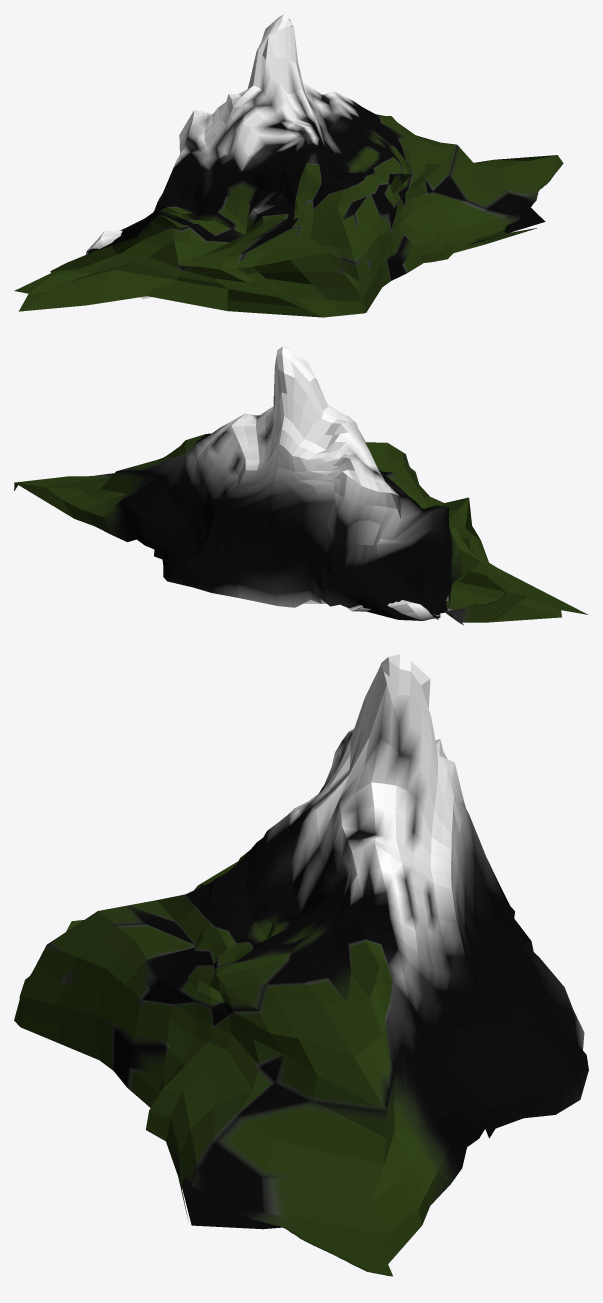
Rendered from гора1.fbx.
The picture shows the model from 3 angles, top to bottom: view 1: azimuth 30°, elevation 25°; view 2: azimuth 150°, elevation 25°; view 3: azimuth 270°, elevation 25°; orthographic projection. The views are drawn at different scales.
Visible parts, largest first — view 1: поверхность; view 2: поверхность; view 3: поверхность.
Boxes of the visible parts, x1,y1,x2,y2 form: поверхность: (14, 14, 563, 317); поверхность: (14, 346, 588, 625); поверхность: (14, 654, 588, 1276).
Bounding box in the file's own units: 610 × 234 × 301.
